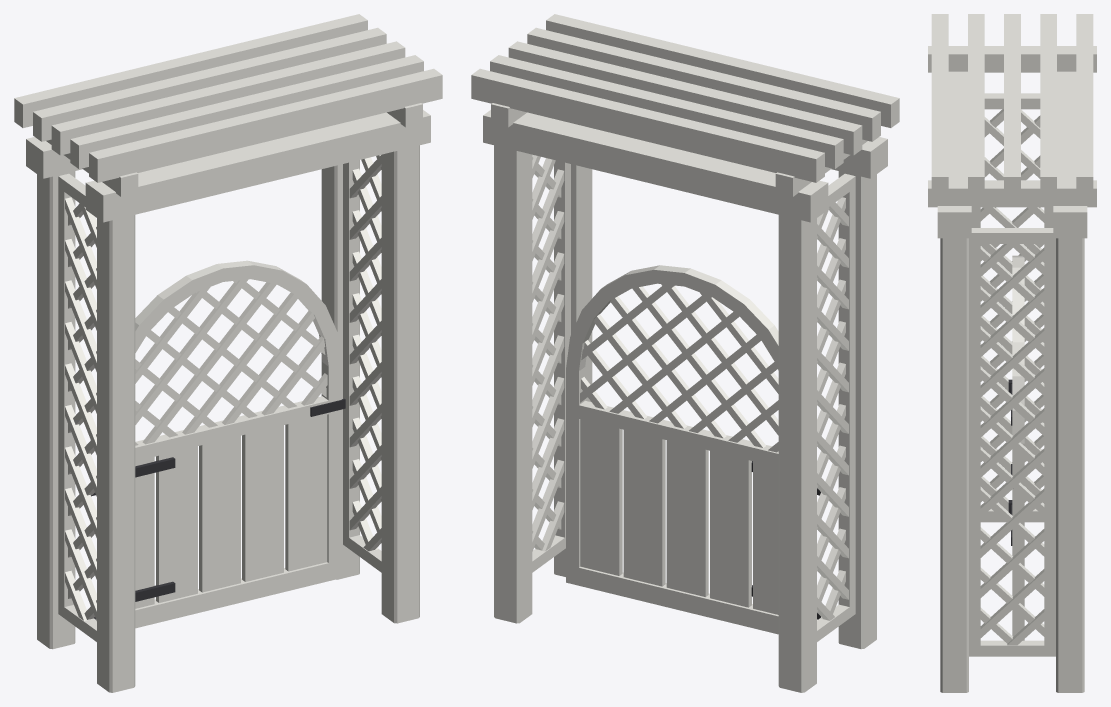
Rendered from FMS_Garden_Arch_Wood_Gate.fbx.
The picture shows the model from 3 angles, left to right: view 1: azimuth 30°, elevation 25°; view 2: azimuth 150°, elevation 25°; view 3: azimuth 270°, elevation 25°; orthographic projection. The views are drawn at different scales.
Visible parts, largest first — view 1: FMS_Garden_Arch_Wood_Gate_Body, Gate_Leaf; view 2: FMS_Garden_Arch_Wood_Gate_Body, Gate_Leaf; view 3: FMS_Garden_Arch_Wood_Gate_Body, Gate_Leaf.
Part boxes in pixels (x1,y1,x2,y2): FMS_Garden_Arch_Wood_Gate_Body: (14, 14, 442, 692); Gate_Leaf: (135, 260, 345, 628); FMS_Garden_Arch_Wood_Gate_Body: (471, 14, 899, 692); Gate_Leaf: (566, 265, 778, 634); FMS_Garden_Arch_Wood_Gate_Body: (928, 14, 1096, 692); Gate_Leaf: (1008, 255, 1024, 640).
Bounding box in the file's own units: 1.6 × 2.4 × 0.7.
